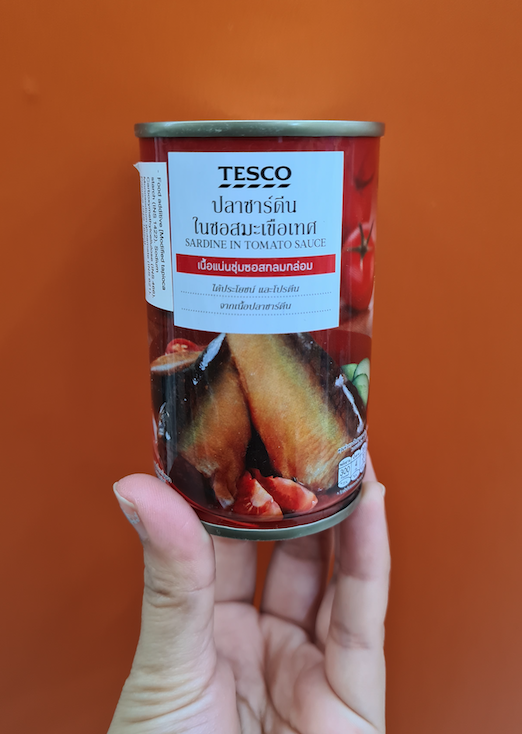Canned_Sardines_and_Mackerel: (137, 127, 364, 509)
